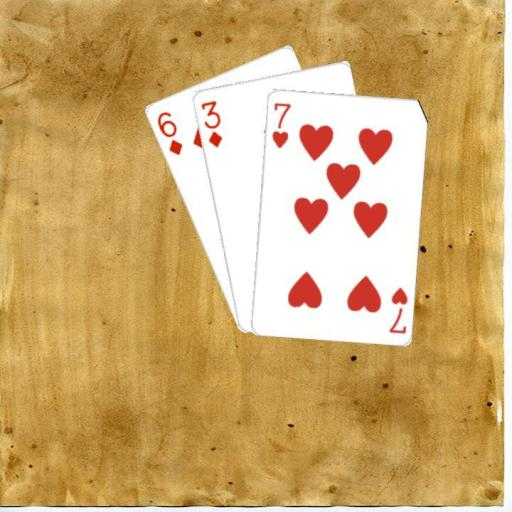3D: (197, 97, 223, 149)
6D: (154, 108, 184, 157)
7H: (268, 99, 292, 150), (385, 284, 409, 335)
